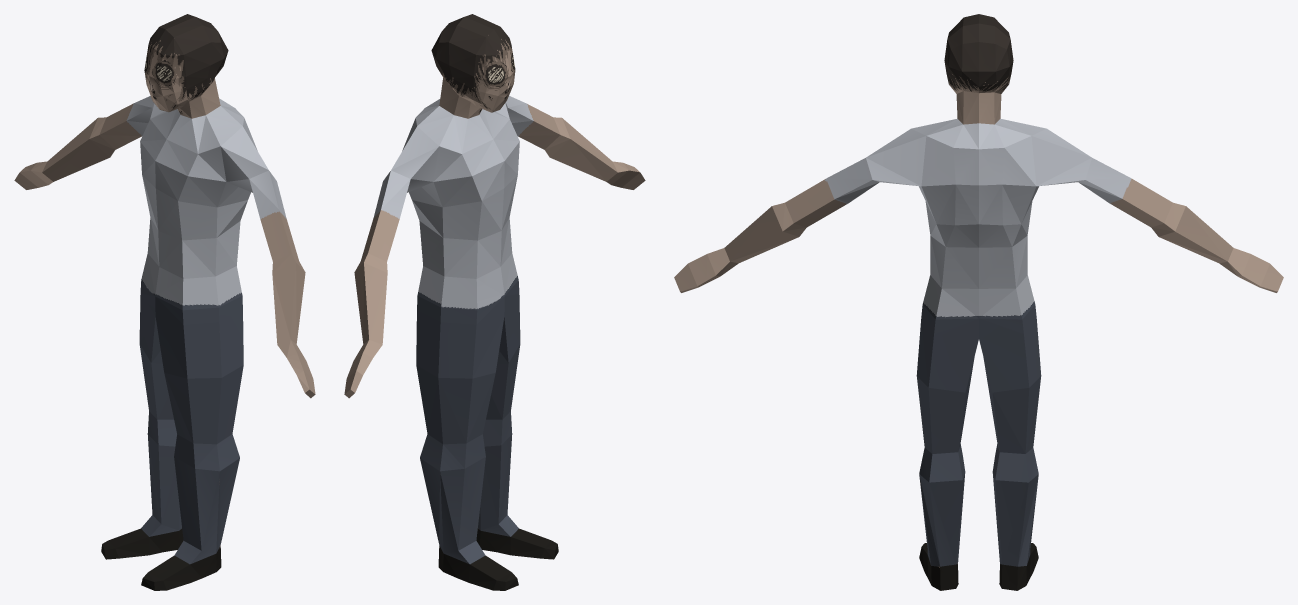
File: NPCV0.fbx
3 views of the same model, side by side, from view 1: azimuth 30°, elevation 25°; view 2: azimuth 150°, elevation 25°; view 3: azimuth 270°, elevation 25° (orthographic). The views are drawn at different scales.
Parts seen in each view (by area): view 1: Characters_01.001; view 2: Characters_01.001; view 3: Characters_01.001.
Boxes of the visible parts, x1=… form: Characters_01.001: x1=14, y1=14, x2=315, y2=590; Characters_01.001: x1=344, y1=14, x2=645, y2=590; Characters_01.001: x1=674, y1=14, x2=1283, y2=590.
Size of the model in its own units: 55.22 by 241 by 236.
